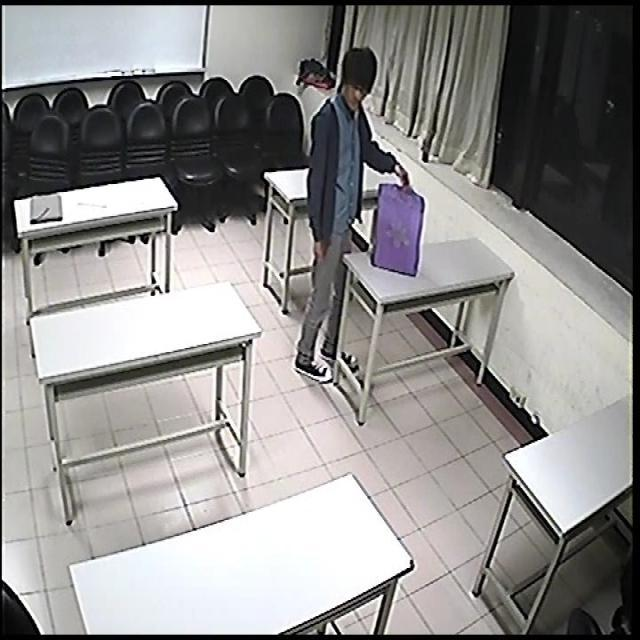abandoned-object: (349, 156, 446, 294)
